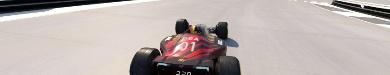Car: (128, 18, 241, 74)
Solid White and black: (330, 0, 389, 24)
